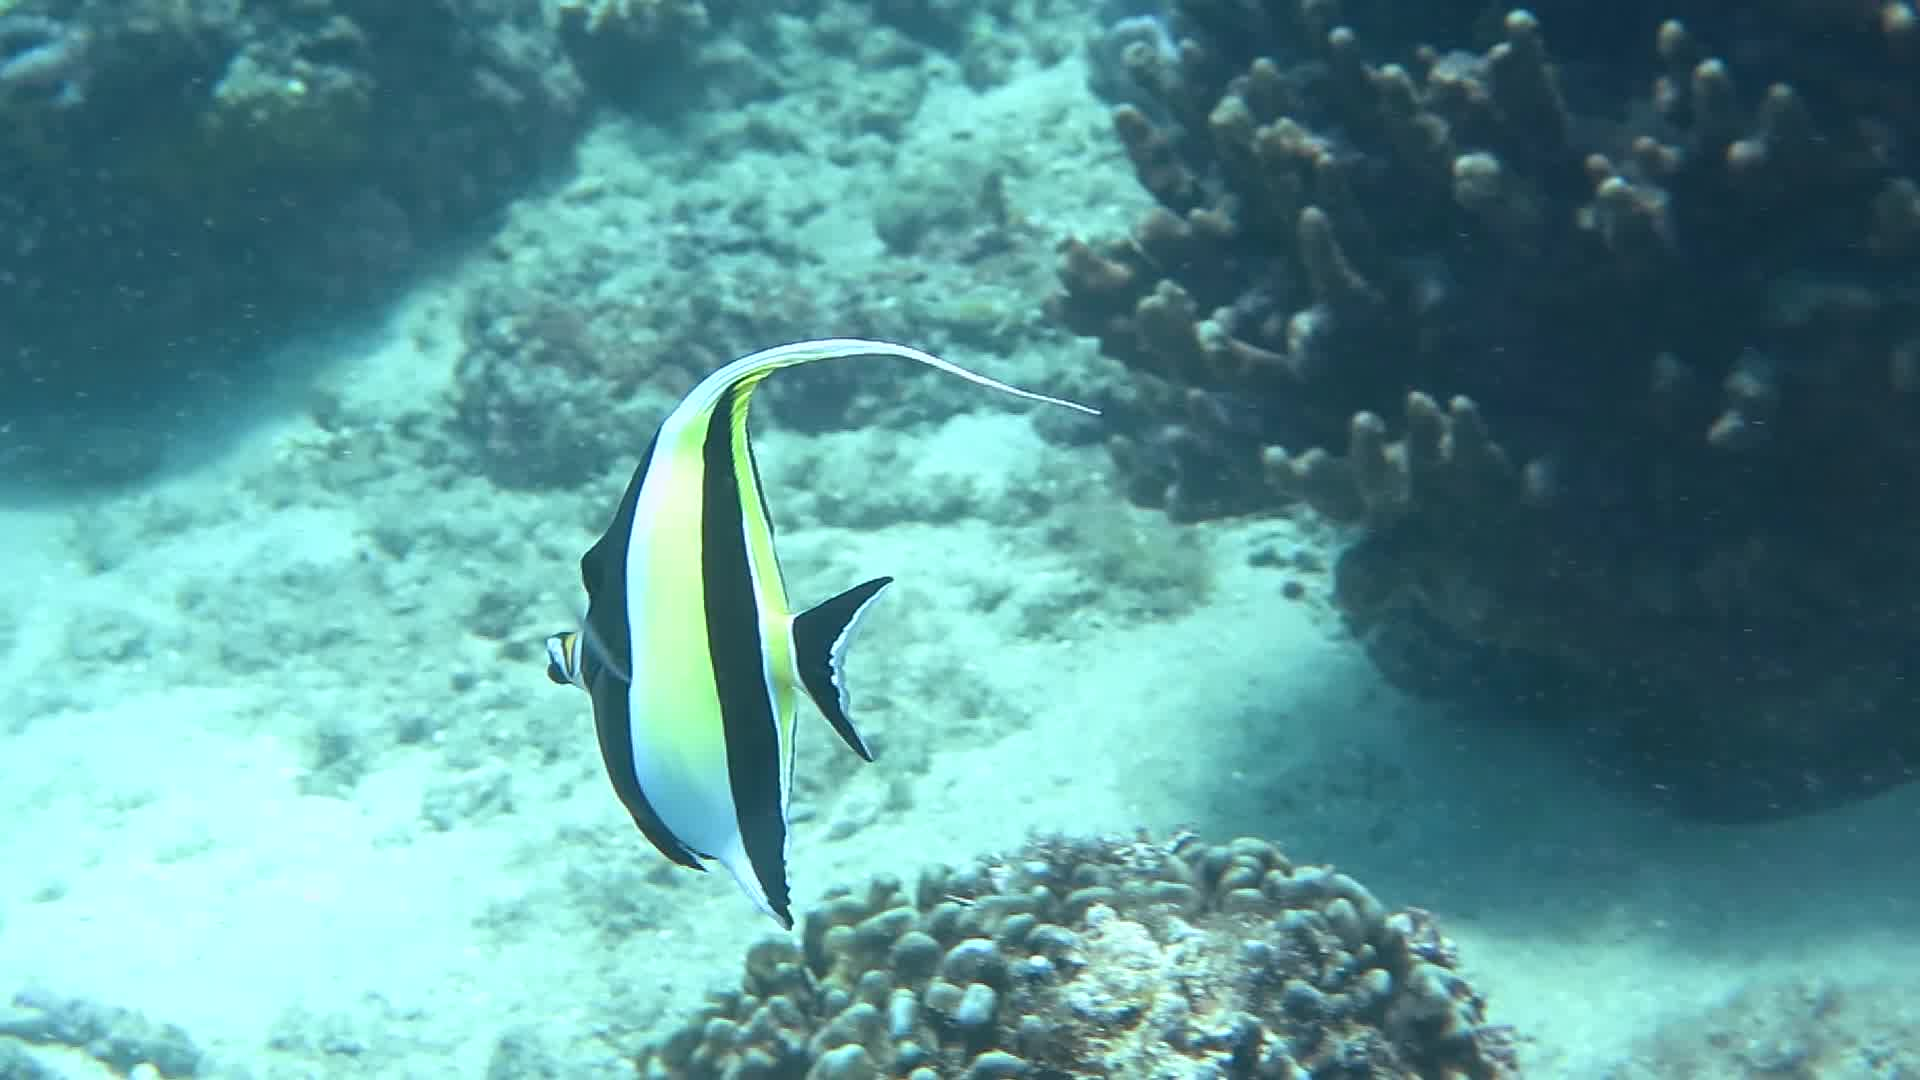Zanclus cornutus: (538, 380, 899, 924)
